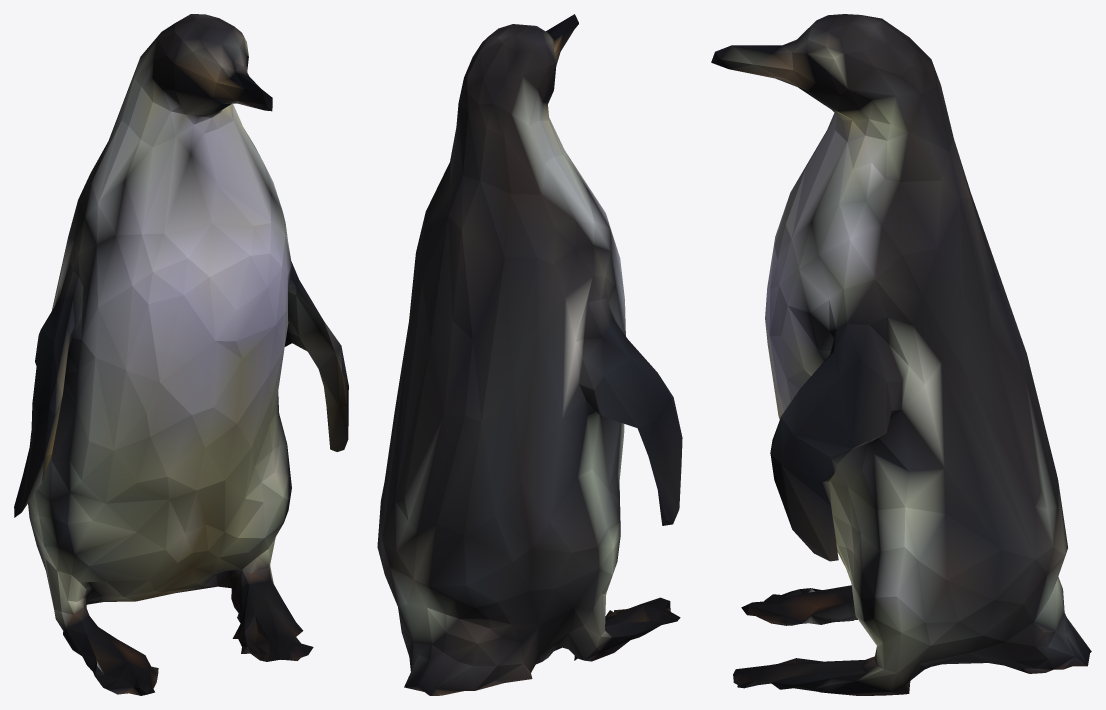
Rendered from penguin_Whole.fbx.
The picture shows the model from 3 angles, left to right: view 1: azimuth 30°, elevation 25°; view 2: azimuth 150°, elevation 25°; view 3: azimuth 270°, elevation 25°; orthographic projection. The views are drawn at different scales.
Parts seen in each view (by area): view 1: ping_gumb_lowpoly; view 2: ping_gumb_lowpoly; view 3: ping_gumb_lowpoly.
Part boxes in pixels (bbox=[...]): ping_gumb_lowpoly: bbox=[14, 14, 348, 695]; ping_gumb_lowpoly: bbox=[377, 14, 682, 695]; ping_gumb_lowpoly: bbox=[711, 14, 1091, 695].
Size of the model in its own units: 74.17 by 144 by 76.53.
